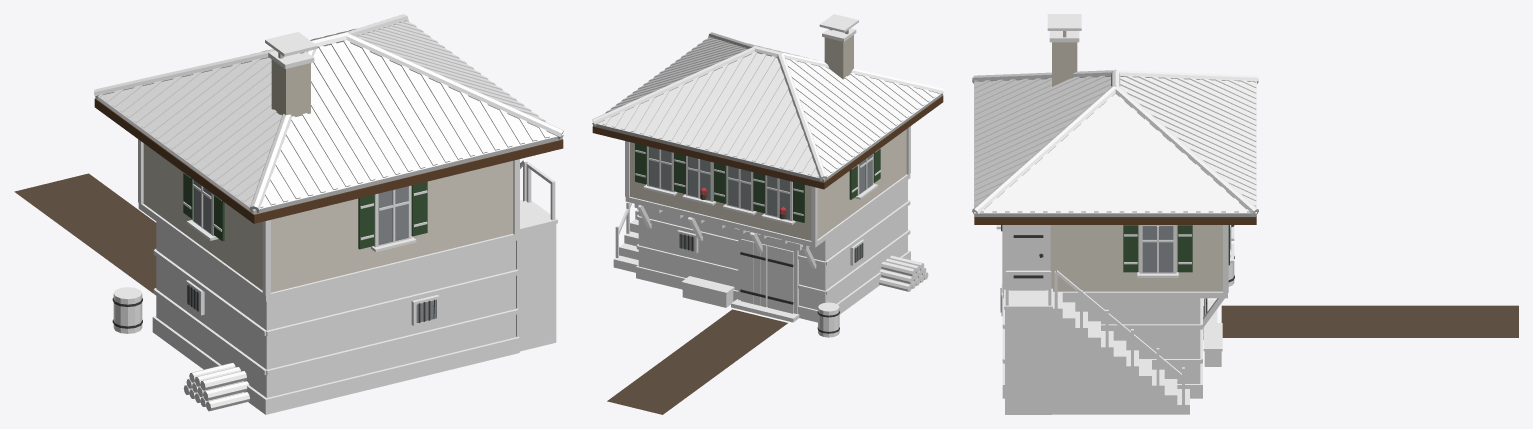
The picture shows the model from 3 angles, left to right: view 1: azimuth 30°, elevation 25°; view 2: azimuth 150°, elevation 25°; view 3: azimuth 270°, elevation 25°; orthographic projection. The views are drawn at different scales.
Parts seen in each view (by area): view 1: AhirKasa; view 2: AhirKasa; view 3: AhirKasa.
Boxes of the visible parts, x1,y1,x2,y2 form: AhirKasa: (14,14,563,414); AhirKasa: (592,14,943,414); AhirKasa: (972,14,1518,414).
Size of the model in its own units: 0.6212 by 0.5933 by 1.
